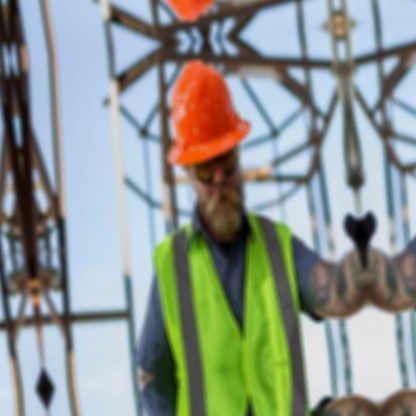vest: (147, 208, 308, 375)
